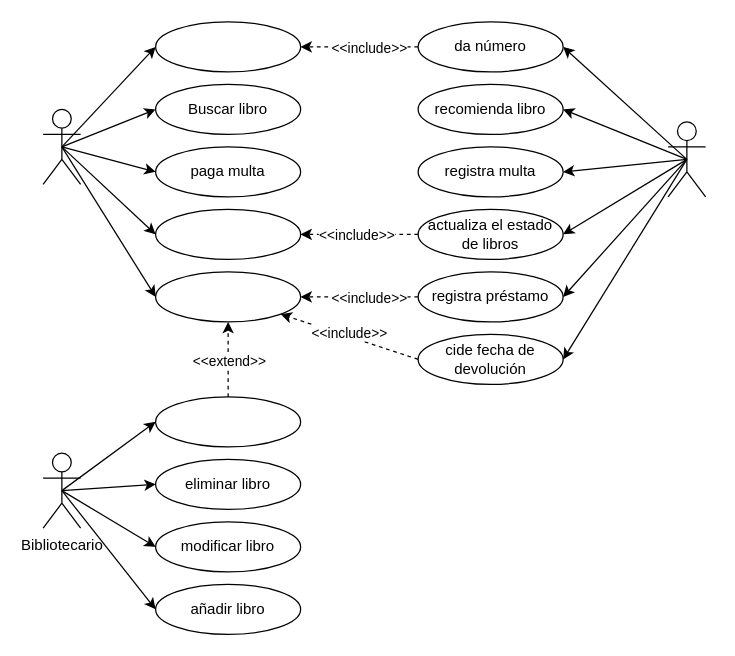
Some shapes in this 735 by 656 pixel diagram are drawn without their labels. Each missing label, with the centre of its shape:
devuelve libro: the point at 227,233
generar reporte sobre préstamos: the point at 227,421
pedir prestado: the point at 227,296
se registra: the point at 227,46
Sistema: the point at 686,159
Usuario: the point at 61,146
